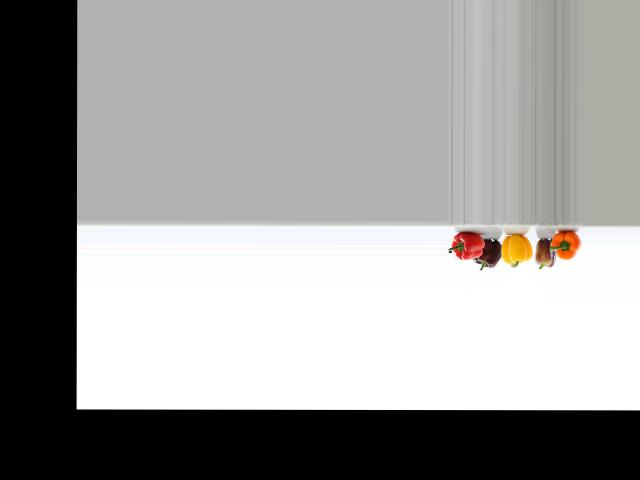bell_pepper: (549, 227, 581, 269)
